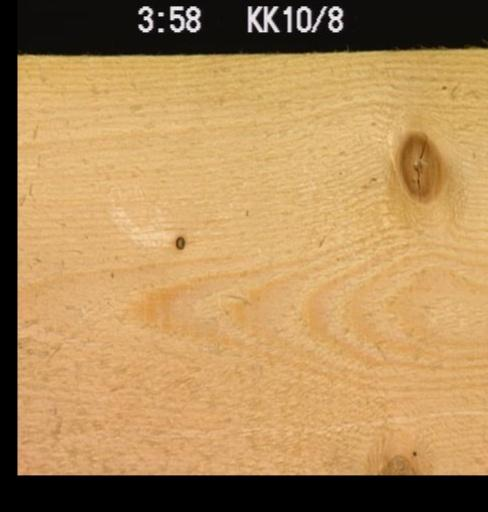dry_knot: (171, 231, 185, 250)
edge_knot: (372, 448, 421, 474)
sound_knot: (395, 129, 445, 203)
